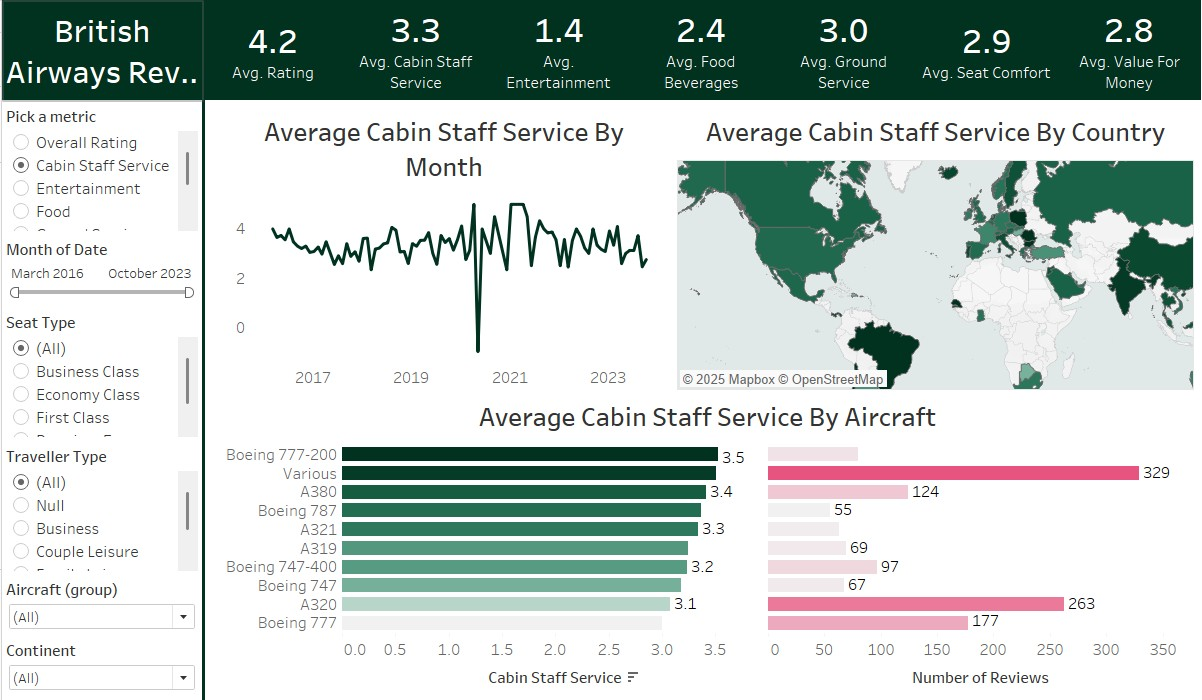

What the dashboard file says about the page in this screenshot:
{"tool":"tableau","page":{"name":"Dashboard 1","canvas":[1300,700],"ordinal":0},"visuals":[{"type":"text","box":[0,0,243,100]},{"type":"worksheet","title":"SUMMARY","mark":"Automatic","box":[242,0,1057,100]},{"type":"parameter","param":"[Parameters].[Parameter 1]","box":[0,100,191,197]},{"type":"worksheet","title":"MONTH","mark":"Automatic","rows":["Calculation_439945430927630336"],"cols":["date"],"box":[200,100,553,323]},{"type":"worksheet","title":"MAP","mark":"Automatic","box":[752,100,546,323]},{"type":"filter","title":"MAP","param":"[federated.03un6nn1luch6b142e4cs0343slb].[tmn:date:qk]","box":[0,297,191,73]},{"type":"filter","title":"MAP","param":"[federated.03un6nn1luch6b142e4cs0343slb].[none:seat_type:nk]","box":[0,370,191,151]},{"type":"filter","title":"MAP","param":"[federated.03un6nn1luch6b142e4cs0343slb].[none:traveller_type:nk]","box":[0,521,191,174]}]}

Visuals, with their boxes on the page's 1300x700 design canvas (x1, y1, x2, y2). These are canvas units, not pixel positions in the 1202x700 screenshot, which may show the page scaled, cropped or inside an application window:
text: box(0, 0, 243, 100)
"SUMMARY" worksheet: box(242, 0, 1299, 100)
parameter: box(0, 100, 191, 297)
"MONTH" worksheet: box(200, 100, 753, 423)
"MAP" worksheet: box(752, 100, 1298, 423)
"MAP" filter: box(0, 297, 191, 370)
"MAP" filter: box(0, 370, 191, 521)
"MAP" filter: box(0, 521, 191, 695)
